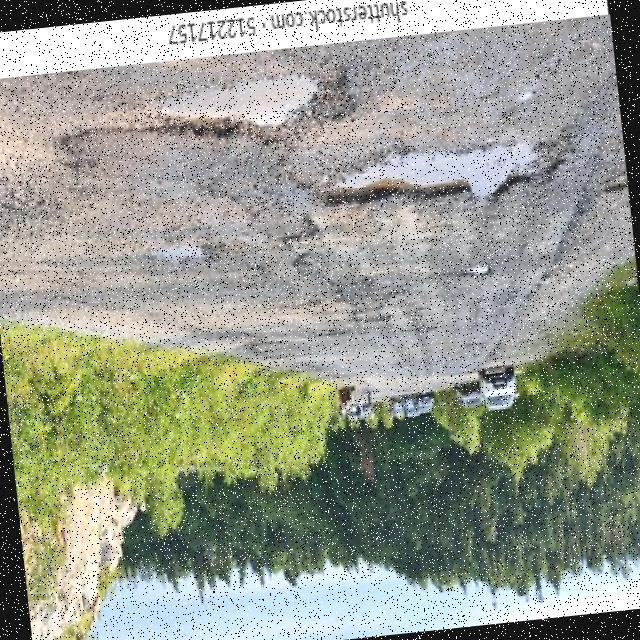Pothole: (324, 136, 572, 206), (160, 74, 315, 137)
